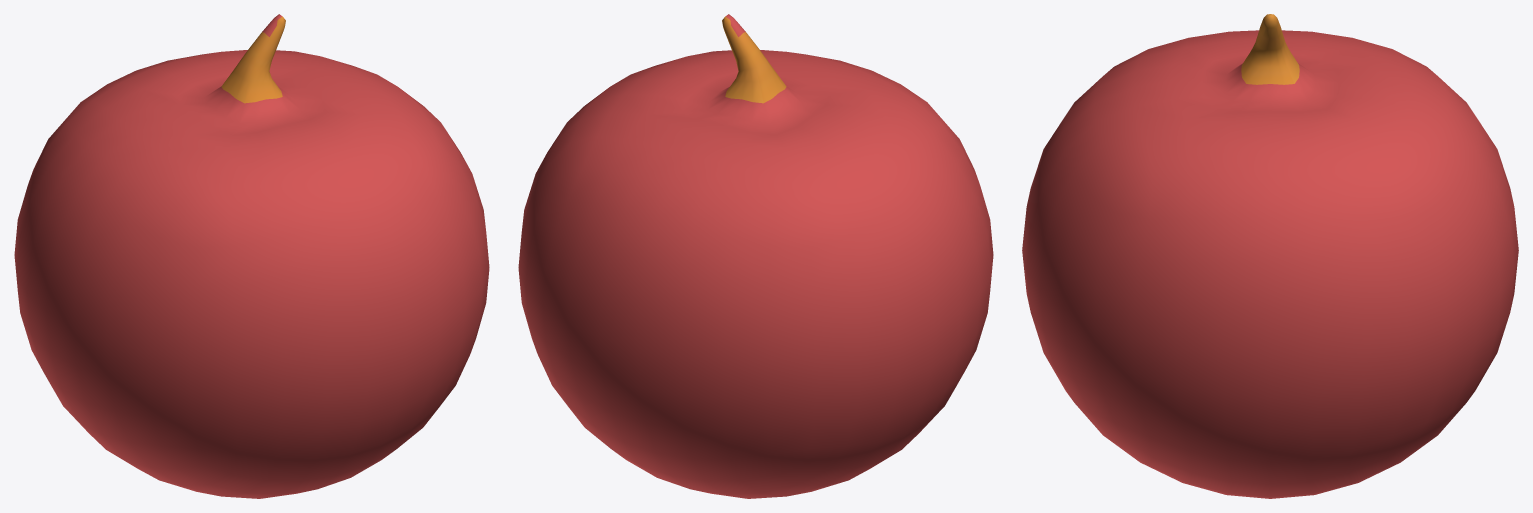
File: Apple.fbx
3 views of the same model, side by side, from view 1: azimuth 30°, elevation 25°; view 2: azimuth 150°, elevation 25°; view 3: azimuth 270°, elevation 25° (orthographic). The views are drawn at different scales.
Visible parts, largest first — view 1: Apple; view 2: Apple; view 3: Apple.
Part boxes in pixels (x1,y1,x2,y2): Apple: (14,14,489,498); Apple: (518,14,993,498); Apple: (1022,14,1518,498).
Bounding box in the file's own units: 0.2152 × 0.2276 × 0.2152.
Materials: 1 (1 with a texture image).
